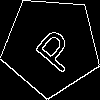P: (26, 21, 81, 76)
